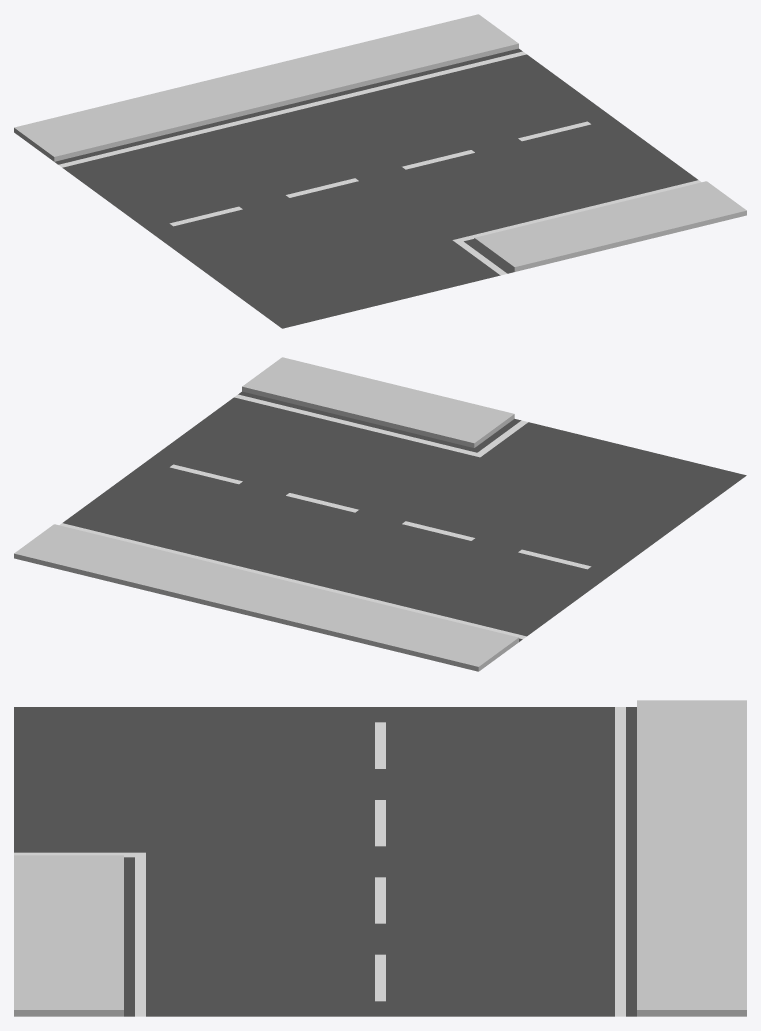
The model's file is SPW_Urban_Road 2way_06.gltf.
The picture shows the model from 3 angles, top to bottom: view 1: azimuth 30°, elevation 25°; view 2: azimuth 150°, elevation 25°; view 3: azimuth 270°, elevation 25°; orthographic projection. The views are drawn at different scales.
Visible parts, largest first — view 1: SPW_Urban_Road_2way_06; view 2: SPW_Urban_Road_2way_06; view 3: SPW_Urban_Road_2way_06.
Boxes of the visible parts, x1,y1,x2,y2 form: SPW_Urban_Road_2way_06: (14, 14, 746, 328); SPW_Urban_Road_2way_06: (14, 357, 746, 671); SPW_Urban_Road_2way_06: (14, 700, 746, 1016).
Bounding box in the file's own units: 787 × 7.87 × 787.
Materials: 1 (1 with a texture image).
